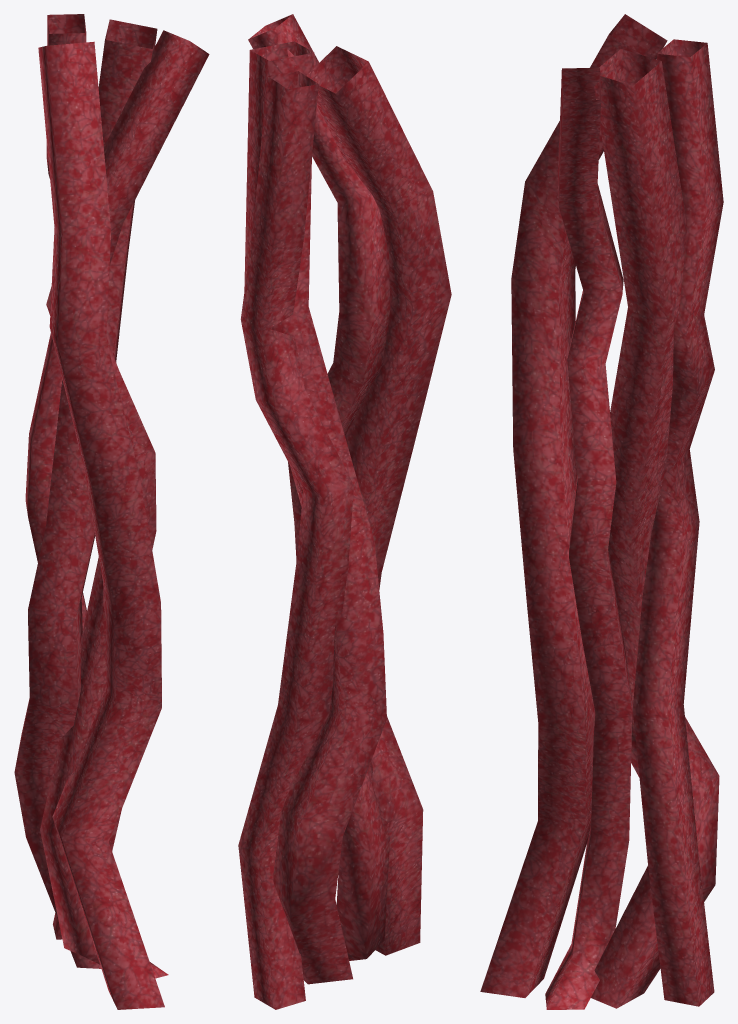
Rendered from Nerves.fbx.
3 renders of one model, left to right at view 1: azimuth 30°, elevation 25°; view 2: azimuth 150°, elevation 25°; view 3: azimuth 270°, elevation 25°, orthographic. The views are drawn at different scales.
Parts seen in each view (by area): view 1: Cylinder.002; view 2: Cylinder.002; view 3: Cylinder.002.
Part boxes in pixels (x1,y1,x2,y2): Cylinder.002: (14, 14, 209, 1009); Cylinder.002: (238, 14, 451, 1009); Cylinder.002: (480, 14, 723, 1009).
Size of the model in its own units: 15.12 by 79.33 by 18.35.
